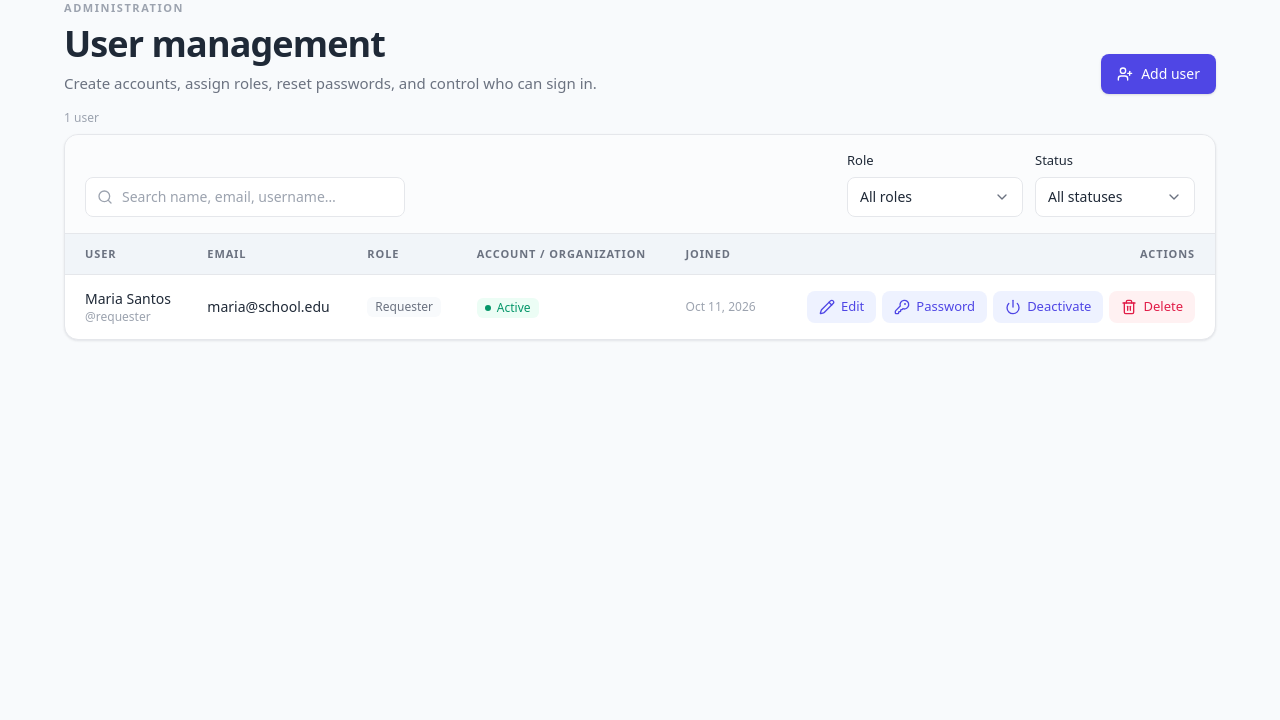
it: UserManagementPage › edits an account profile and role
Expected: the text "Maria Santos" is shown, left=85, top=289, right=175, bottom=309
Click the button with aria-label "Edit Maria Santos" at (842, 307), box left=807, top=291, right=876, bottom=323
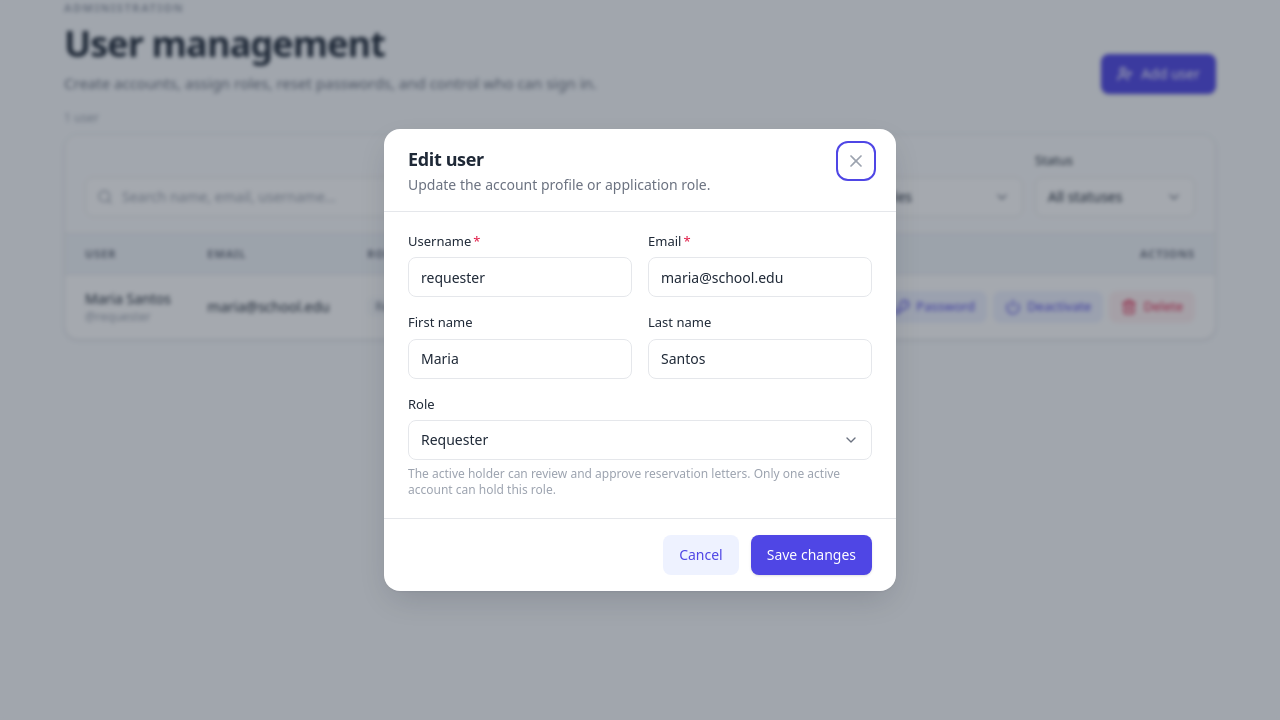
Expected: the field labelled "First name" holds "Maria"
Replace the text in the field labelled "First name" with "Mariel" at (520, 359), box left=408, top=339, right=632, bottom=379
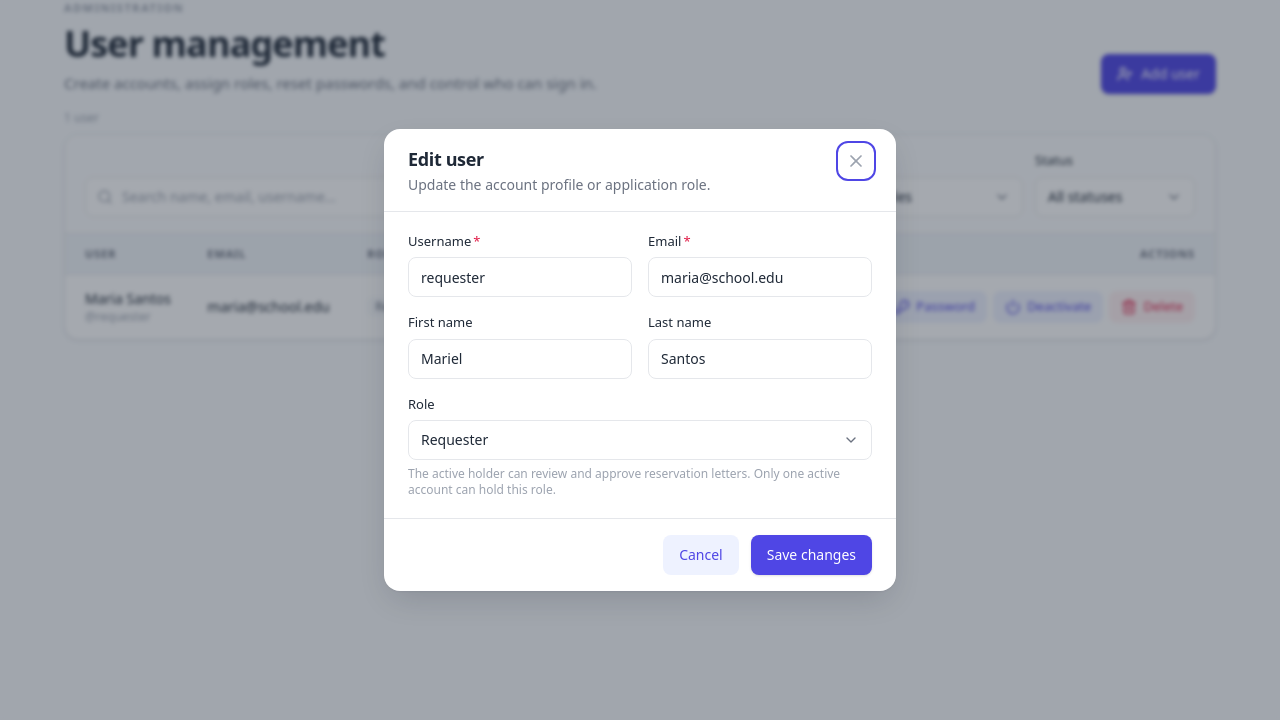
Select "SAS Staff" in the dropdown labelled "Role" at (640, 440), box left=408, top=420, right=872, bottom=460
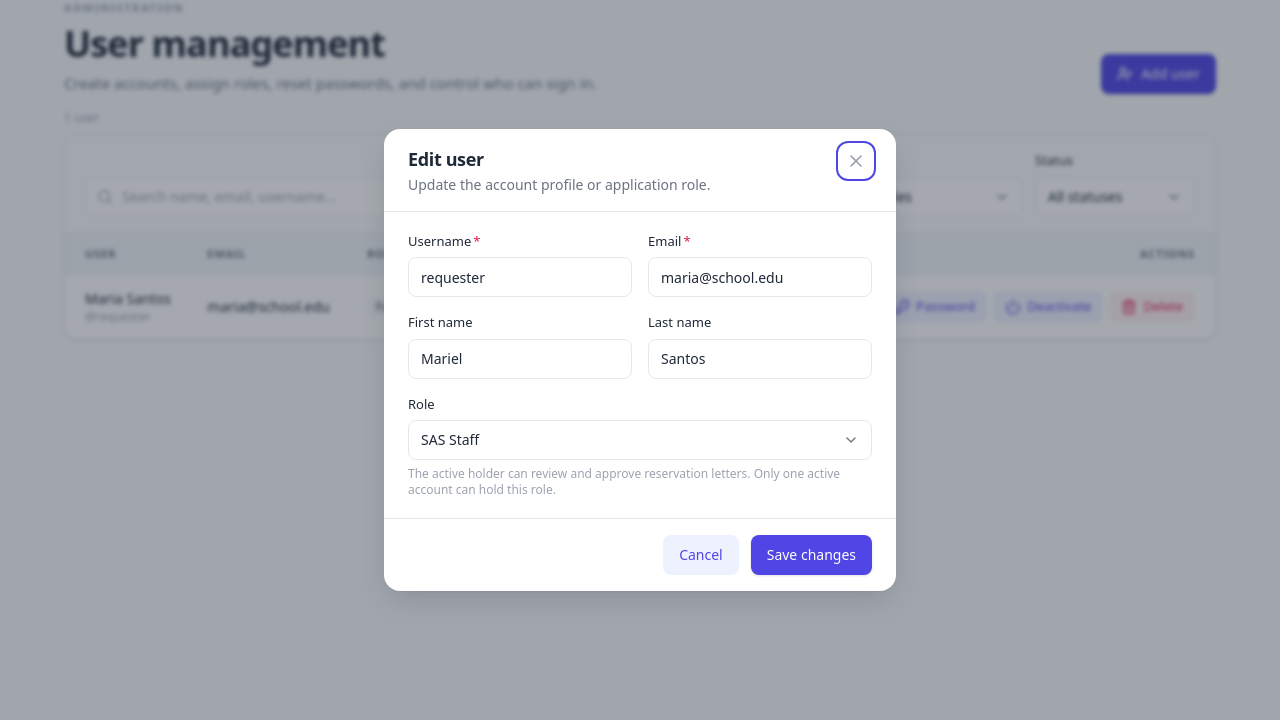
Click the button "Save changes" at (811, 555), box left=751, top=535, right=872, bottom=575
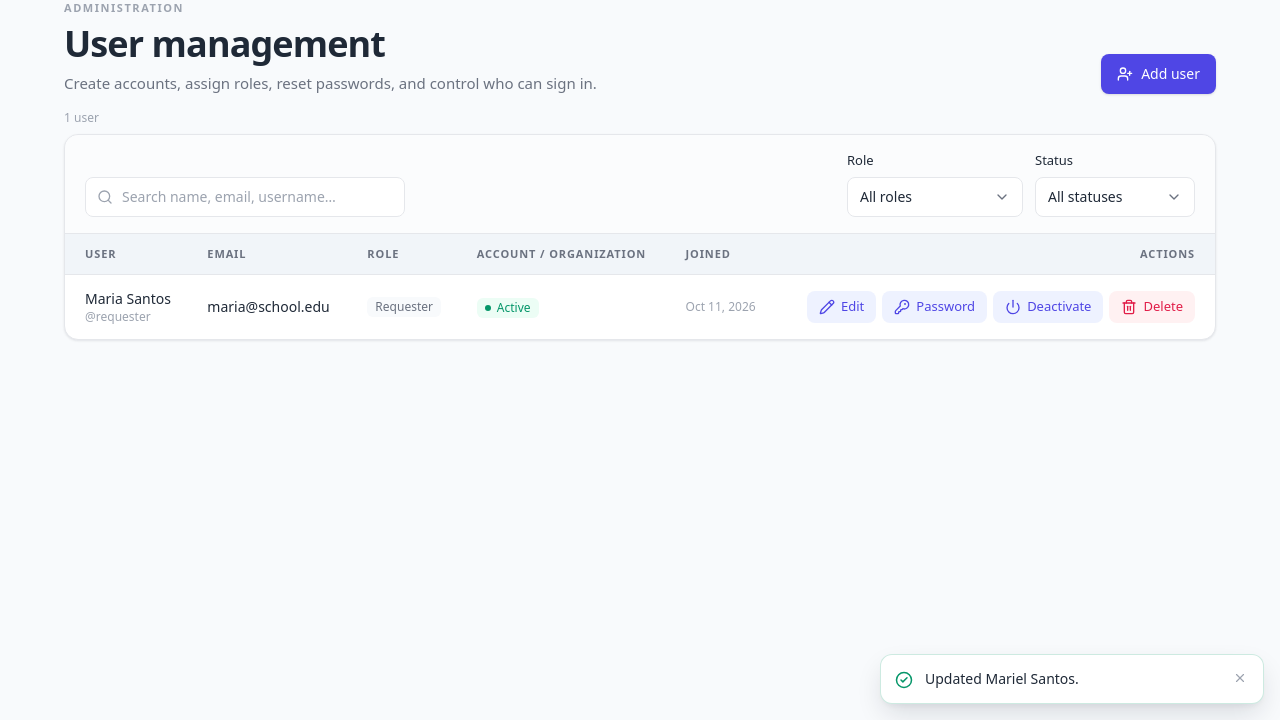
Expected: the text "Updated Mariel Santos." is shown, left=925, top=669, right=1079, bottom=688
